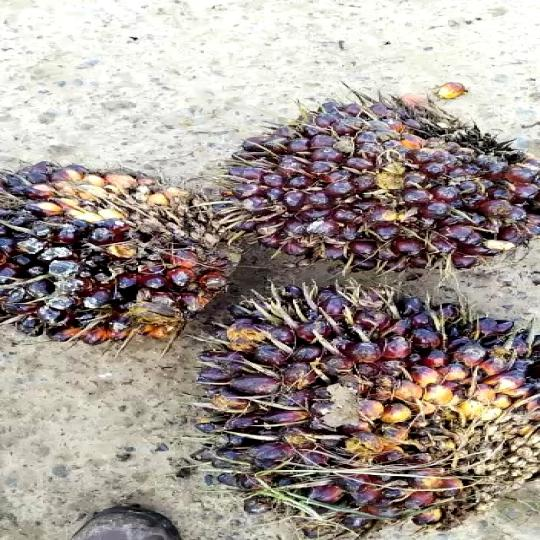kurang masak: (184, 287, 540, 540), (206, 80, 540, 276), (1, 151, 221, 352)
